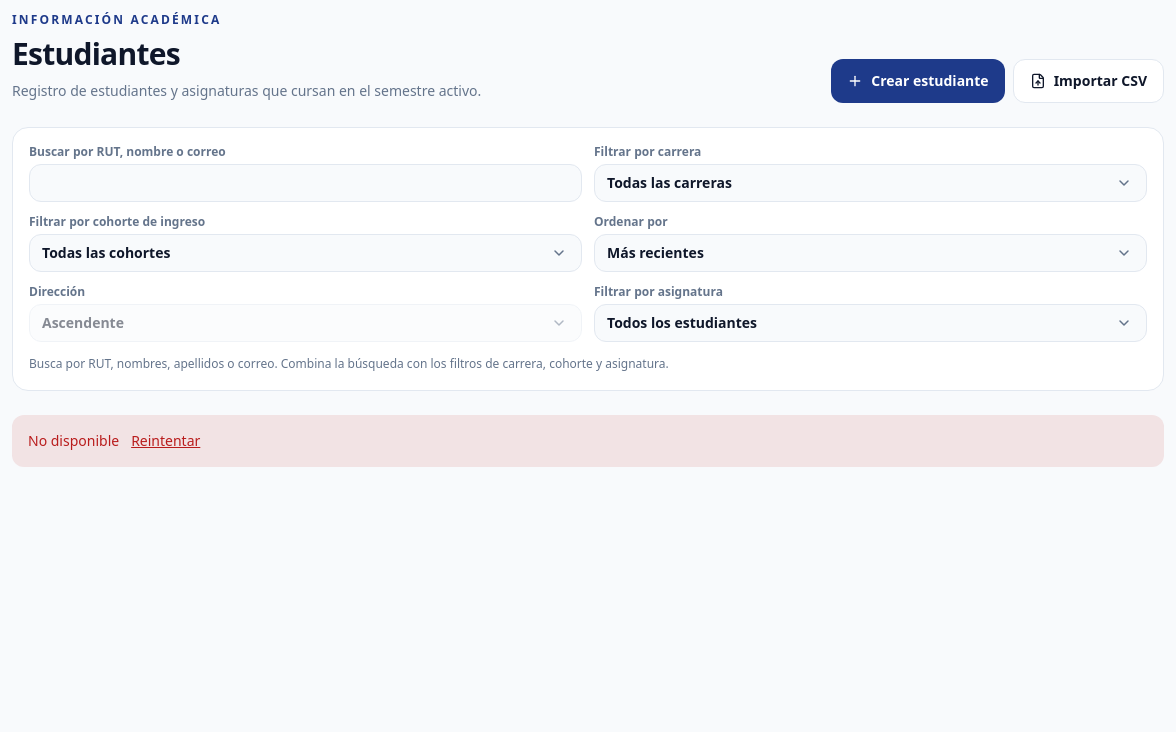
Test case: Estudiantes › recupera una consulta fallida con reintentar
Expected: the message "No disponible Reintentar" is shown, [12,415,1164,467]
Click the button "Reintentar".
click(166, 441)  # box [131,431,200,451]
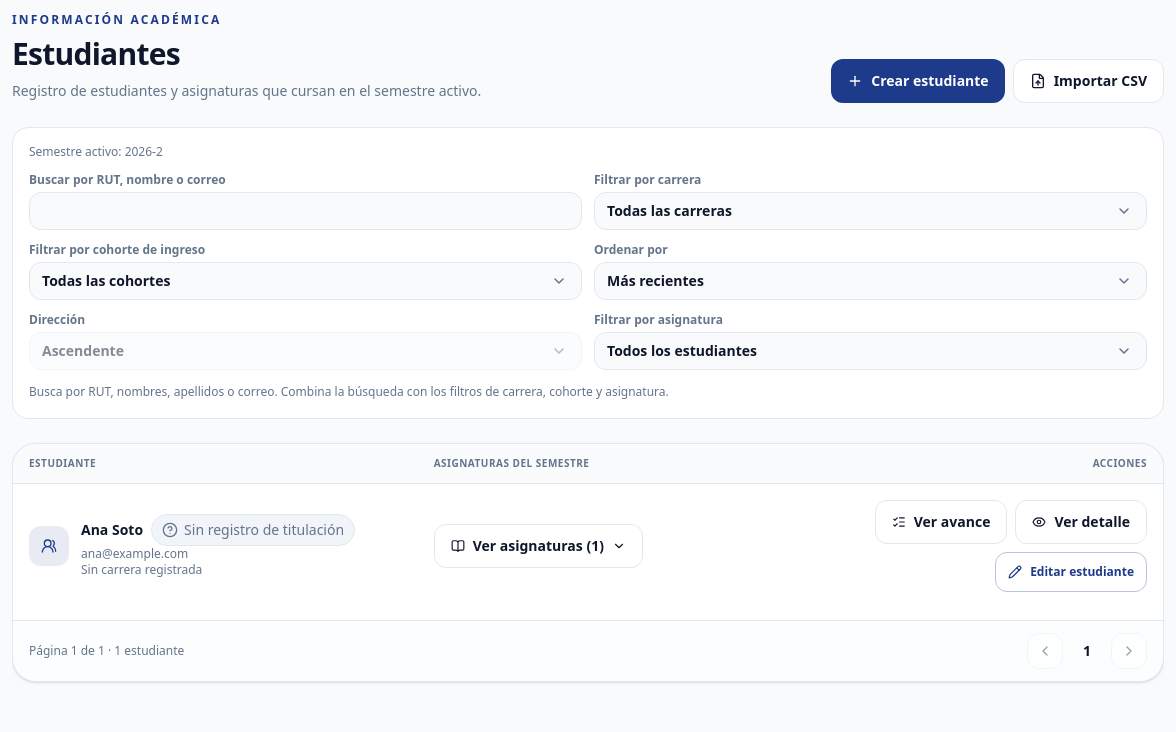
Result: the heading "Ana Soto" is shown at [81,520,143,540]
